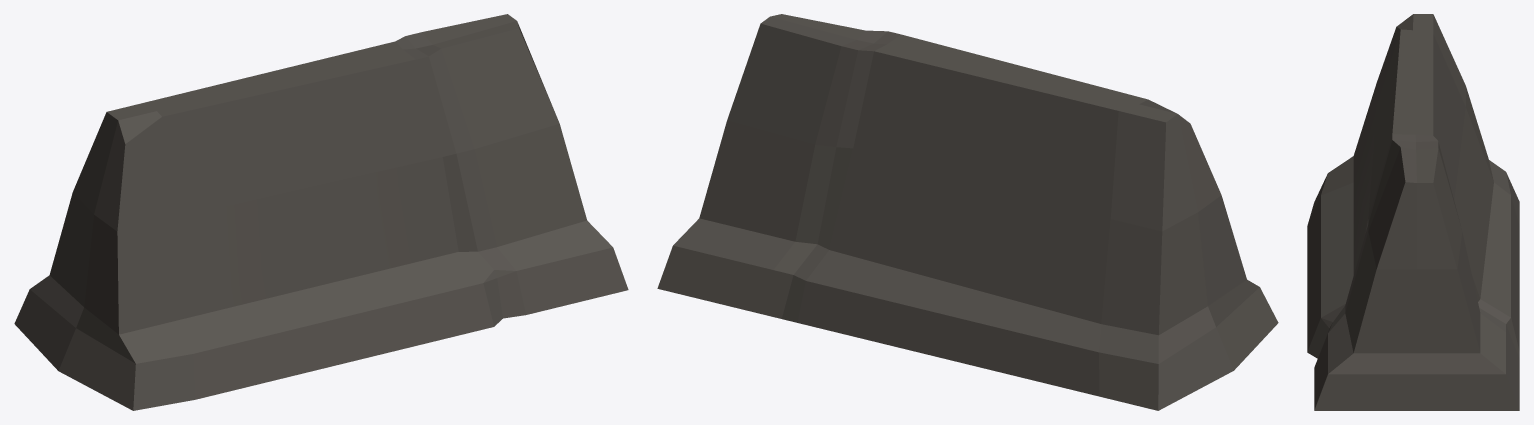
The model's file is SM_Barrier_01.glb.
The picture shows the model from 3 angles, left to right: view 1: azimuth 30°, elevation 25°; view 2: azimuth 150°, elevation 25°; view 3: azimuth 270°, elevation 25°; orthographic projection. The views are drawn at different scales.
Parts seen in each view (by area): view 1: SM_Barrier_01; view 2: SM_Barrier_01; view 3: SM_Barrier_01.
Boxes of the visible parts, x1,y1,x2,y2 form: SM_Barrier_01: [14, 14, 628, 410]; SM_Barrier_01: [657, 14, 1278, 410]; SM_Barrier_01: [1307, 14, 1519, 410].
Bounding box in the file's own units: 1.59 × 0.7106 × 0.6649.
1 material, 1 textured.
